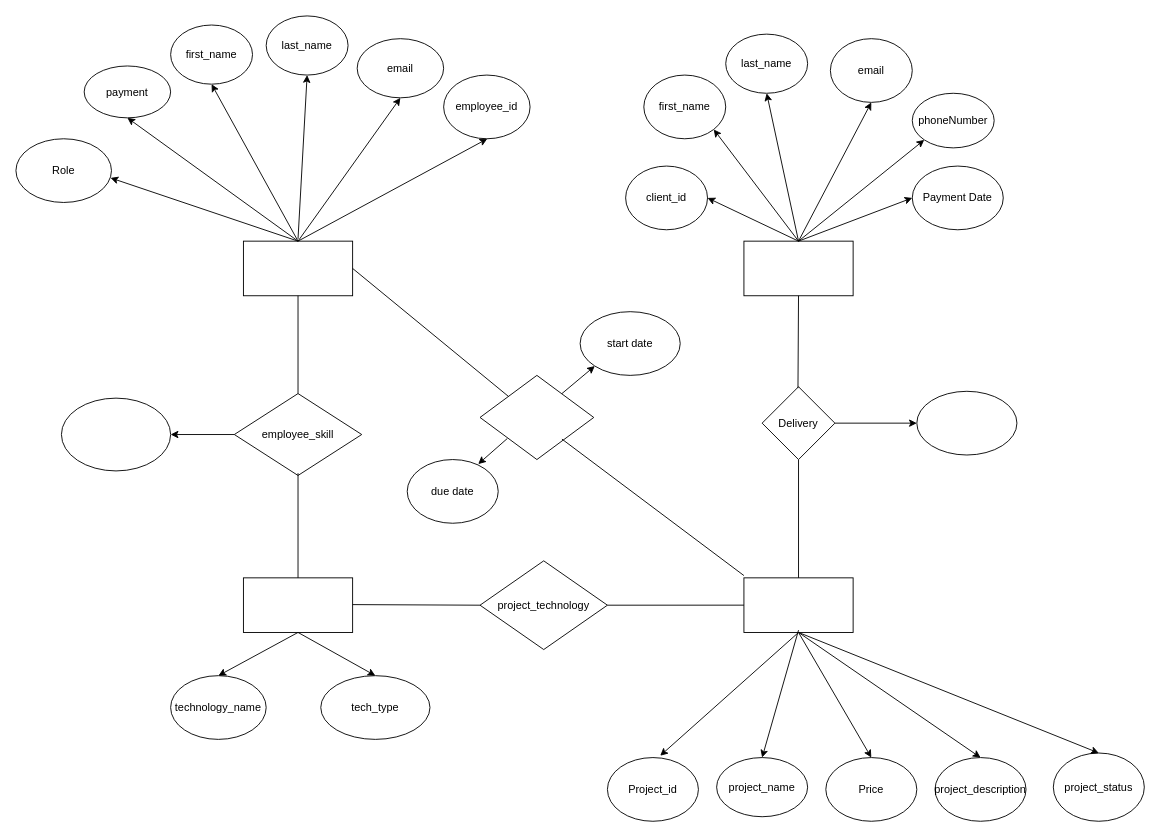
This 1160x837 diagram has some shape labels left out. Each missing label, with the box of its shape:
Client: (743, 240, 853, 296)
delivery_date: (916, 390, 1017, 455)
Employees: (243, 240, 353, 296)
Project: (743, 577, 853, 632)
skill_level: (61, 397, 171, 471)
Technology: (243, 577, 353, 632)
Worked on: (479, 374, 594, 460)
